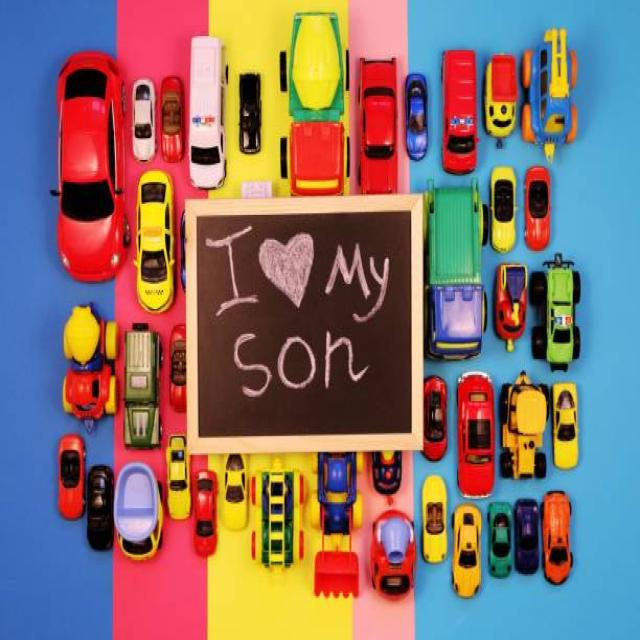Car: (59, 52, 129, 279), (285, 13, 348, 193), (136, 169, 174, 311), (360, 58, 395, 191), (442, 52, 477, 173), (124, 323, 158, 445)
